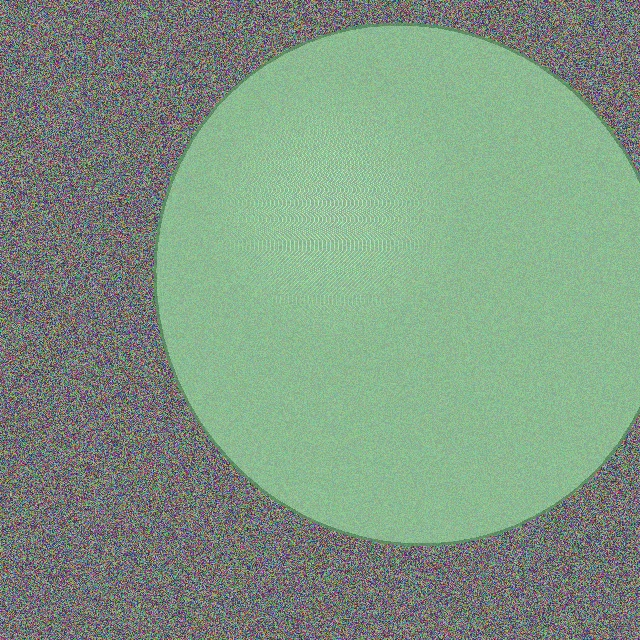lens: (155, 24, 640, 544)
